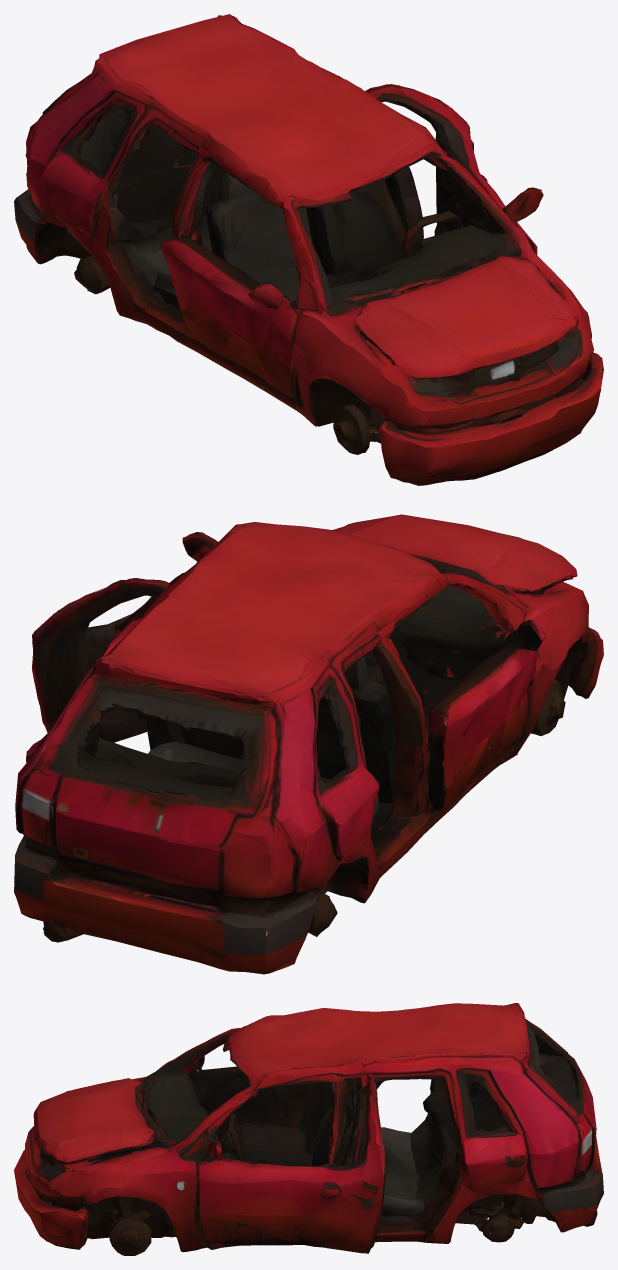
Rendered from Car6.fbx.
3 renders of one model, top to bottom at view 1: azimuth 30°, elevation 25°; view 2: azimuth 150°, elevation 25°; view 3: azimuth 270°, elevation 25°, orthographic. The views are drawn at different scales.
Parts seen in each view (by area): view 1: textured_mesh.obj; view 2: textured_mesh.obj; view 3: textured_mesh.obj.
Part boxes in pixels (left/top/right/bottom): textured_mesh.obj: left=14, top=14, right=603, bottom=485; textured_mesh.obj: left=14, top=514, right=603, bottom=974; textured_mesh.obj: left=14, top=1003, right=603, bottom=1255.
Size of the model in its own units: 286 by 178 by 524.
